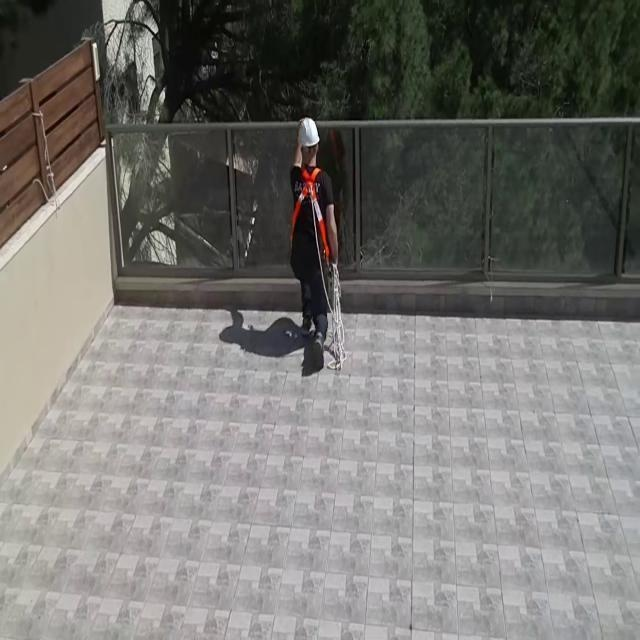Arnes_seguridad: (283, 159, 334, 273)
